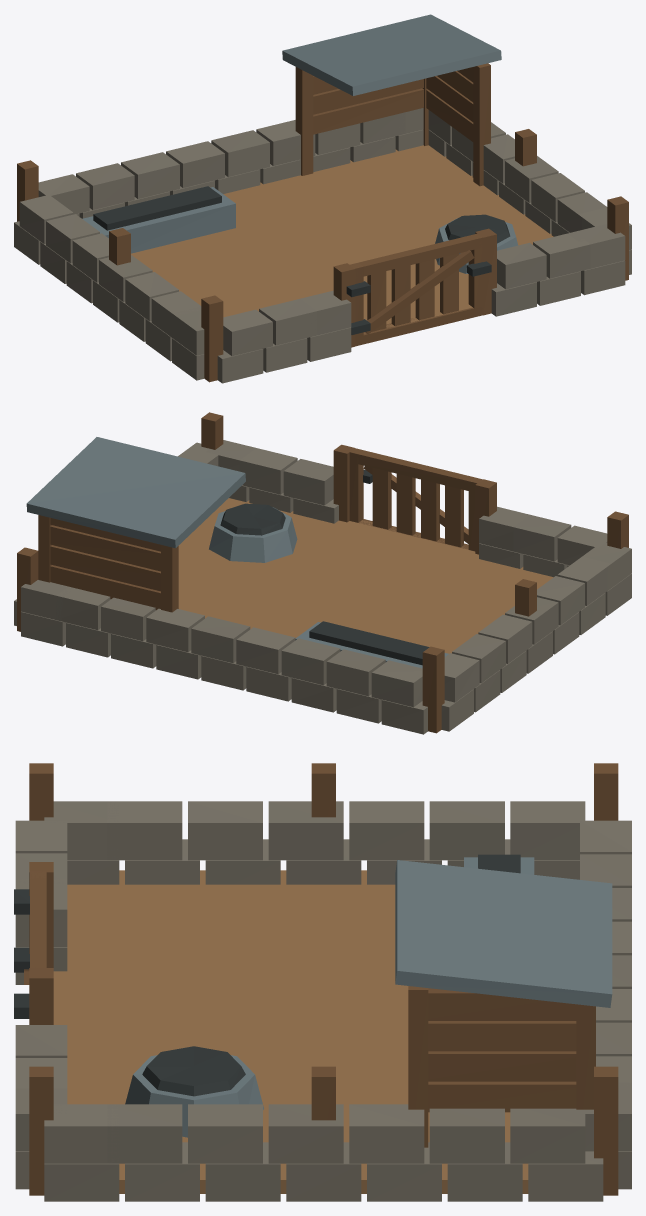
File: sheepfold.source.glb
The picture shows the model from 3 angles, top to bottom: view 1: azimuth 30°, elevation 25°; view 2: azimuth 150°, elevation 25°; view 3: azimuth 270°, elevation 25°; orthographic projection. The views are drawn at different scales.
Visible parts, largest first — view 1: sheepfold-compacted-earth-floor-mesh, sheepfold-shallow-wind-shelter-roof-mesh, sheepfold-long-low-feed-trough-mesh, sheepfold-feed-trough-inset-mesh, sheepfold-rear-windbreak-slat-0-mesh, sheepfold-gate-top-frame-mesh, sheepfold-front-left-wall-stone-1-0-mesh, sheepfold-front-right-wall-stone-1-0-mesh, sheepfold-rear-wall-stone-1-1-mesh, sheepfold-rear-wall-stone-1-2-mesh, sheepfold-front-shelter-post-mesh, sheepfold-rear-wall-stone-1-3-mesh (+61 smaller); view 2: sheepfold-compacted-earth-floor-mesh, sheepfold-shallow-wind-shelter-roof-mesh, sheepfold-compact-water-trough-mesh, sheepfold-rear-windbreak-slat-1-mesh, sheepfold-feed-trough-inset-mesh, sheepfold-rear-windbreak-slat-2-mesh, sheepfold-rear-windbreak-slat-0-mesh, sheepfold-rear-wall-stone-1-0-mesh, sheepfold-front-right-wall-stone-1-0-mesh, sheepfold-rear-wall-stone-1-1-mesh, sheepfold-rear-wall-stone-1-2-mesh, sheepfold-rear-wall-stone-1-3-mesh (+57 smaller); view 3: sheepfold-compacted-earth-floor-mesh, sheepfold-shallow-wind-shelter-roof-mesh, sheepfold-side-windbreak-slat-1-mesh, sheepfold-side-windbreak-slat-2-mesh, sheepfold-right-wall-stone-1-5-mesh, sheepfold-left-wall-stone-1-2-mesh, sheepfold-left-wall-stone-1-5-mesh, sheepfold-left-wall-stone-1-4-mesh, sheepfold-right-wall-stone-1-4-mesh, sheepfold-right-wall-stone-1-2-mesh, sheepfold-left-wall-stone-1-1-mesh, sheepfold-right-wall-stone-1-1-mesh (+50 smaller).
Part boxes in pixels (x1,y1,x2,y2): sheepfold-compacted-earth-floor-mesh: (131,145,553,333); sheepfold-shallow-wind-shelter-roof-mesh: (282,14,501,95); sheepfold-long-low-feed-trough-mesh: (82,187,235,253); sheepfold-feed-trough-inset-mesh: (93,186,221,230); sheepfold-rear-windbreak-slat-0-mesh: (313,88,423,134); sheepfold-gate-top-frame-mesh: (350,234,482,278); sheepfold-front-left-wall-stone-1-0-mesh: (223,309,272,356); sheepfold-front-right-wall-stone-1-0-mesh: (497,242,546,289); sheepfold-rear-wall-stone-1-1-mesh: (76,163,134,209); sheepfold-rear-wall-stone-1-2-mesh: (121,152,179,198); sheepfold-front-shelter-post-mesh: (473,63,490,186); sheepfold-rear-wall-stone-1-3-mesh: (166,141,224,187); sheepfold-compacted-earth-floor-mesh: (178,498,553,653); sheepfold-shallow-wind-shelter-roof-mesh: (26,437,245,548); sheepfold-compact-water-trough-mesh: (209,507,297,562); sheepfold-rear-windbreak-slat-1-mesh: (50,545,160,591); sheepfold-feed-trough-inset-mesh: (309,621,429,665); sheepfold-rear-windbreak-slat-2-mesh: (50,525,160,571); sheepfold-rear-windbreak-slat-0-mesh: (50,565,160,610); sheepfold-rear-wall-stone-1-0-mesh: (371,660,422,707); sheepfold-front-right-wall-stone-1-0-mesh: (283,459,333,505); sheepfold-rear-wall-stone-1-1-mesh: (326,649,385,696); sheepfold-rear-wall-stone-1-2-mesh: (281,638,340,685); sheepfold-rear-wall-stone-1-3-mesh: (236,627,295,674); sheepfold-compacted-earth-floor-mesh: (53,870,528,1193); sheepfold-shallow-wind-shelter-roof-mesh: (395,860,612,1007); sheepfold-side-windbreak-slat-1-mesh: (428,1051,576,1081); sheepfold-side-windbreak-slat-2-mesh: (428,1021,576,1051); sheepfold-right-wall-stone-1-5-mesh: (107,1104,182,1163); sheepfold-left-wall-stone-1-2-mesh: (349,801,424,860); sheepfold-left-wall-stone-1-5-mesh: (107,801,182,860); sheepfold-left-wall-stone-1-4-mesh: (188,801,262,860); sheepfold-right-wall-stone-1-4-mesh: (188,1104,262,1163); sheepfold-right-wall-stone-1-2-mesh: (349,1104,424,1163); sheepfold-left-wall-stone-1-1-mesh: (429,801,504,860); sheepfold-right-wall-stone-1-1-mesh: (429,1108,504,1163).
Bounding box in the file's own units: 5.04 × 1.58 × 4.05.
